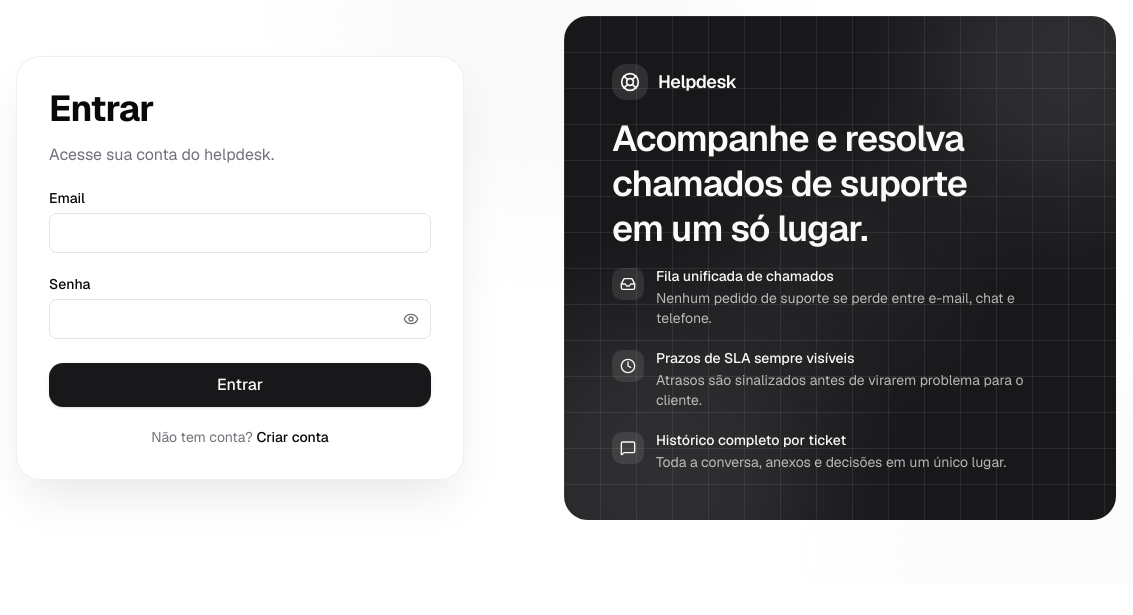
it: LoginPage (SPEC-05) › exibe mensagem de erro ao submeter com credenciais inválidas, sem recarregar a página
This screenshot has width=1133, height=615.
Type "cliente@example.com" into the field labelled "Email" at (240, 233), box [49,213,431,253]
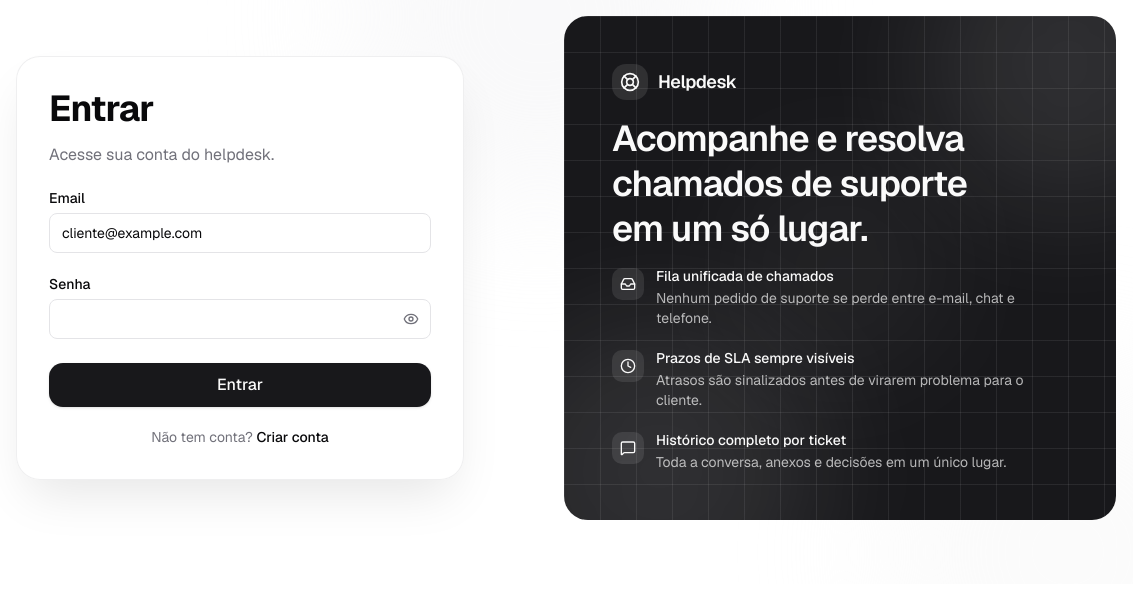
Type "senha-errada" into the password field labelled "Senha" at (240, 319), box [49,299,431,339]
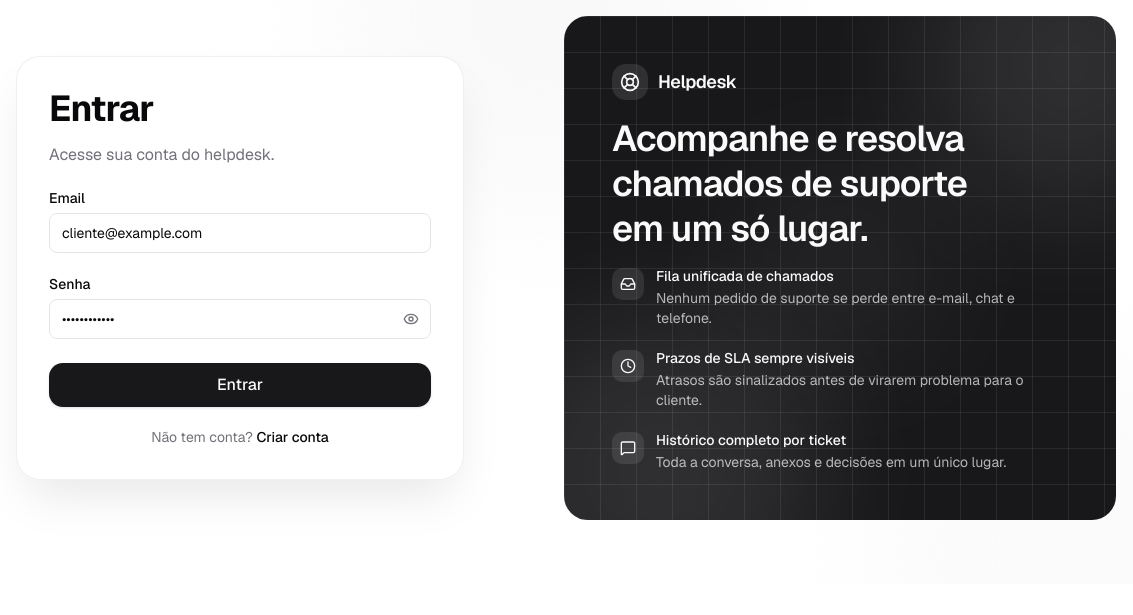
Click the button "Entrar" at (240, 385), box [49,363,431,407]
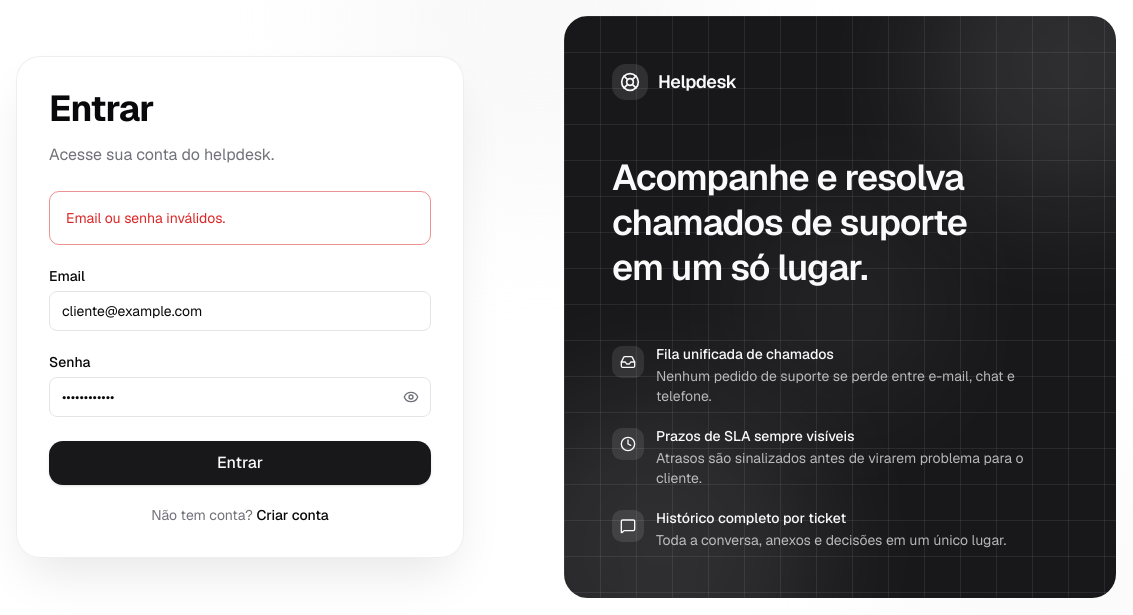
Now the message shows "Email ou senha inválidos", box [66,209,225,227]
